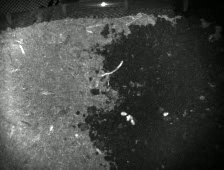corn: (161, 110, 171, 118), (118, 109, 128, 116), (47, 122, 54, 132), (129, 118, 137, 126), (73, 131, 80, 139), (127, 112, 134, 120), (124, 114, 130, 122)
